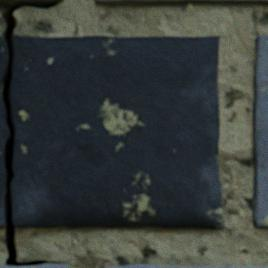brick: (252, 36, 267, 229), (95, 0, 267, 5), (105, 264, 267, 267), (0, 264, 68, 267), (0, 0, 63, 2)
broken_brick: (9, 36, 223, 229), (0, 98, 10, 227), (0, 37, 7, 89)
crack: (0, 2, 61, 265)
